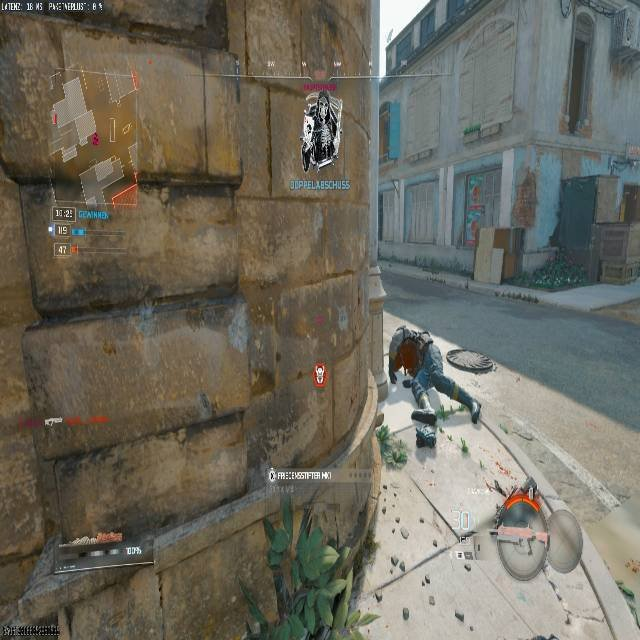head: (390, 332, 424, 377)
player: (301, 95, 339, 171)
